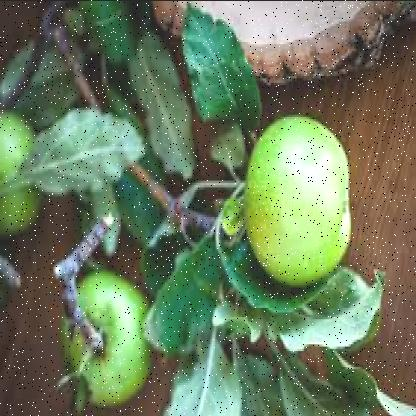apple: (250, 116, 348, 291), (54, 264, 146, 398)
